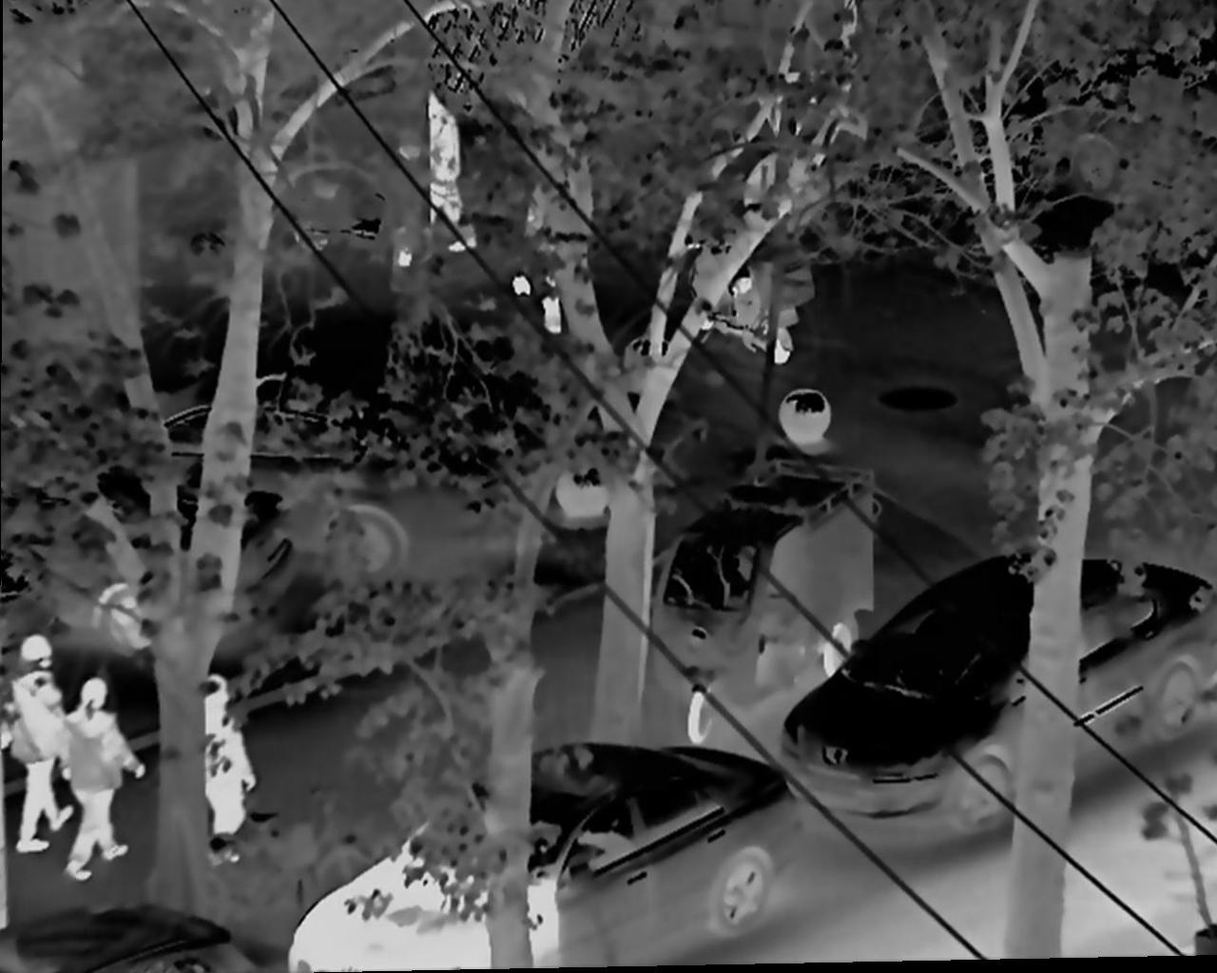person: (63, 680, 146, 887), (194, 676, 257, 866), (418, 89, 480, 256)
